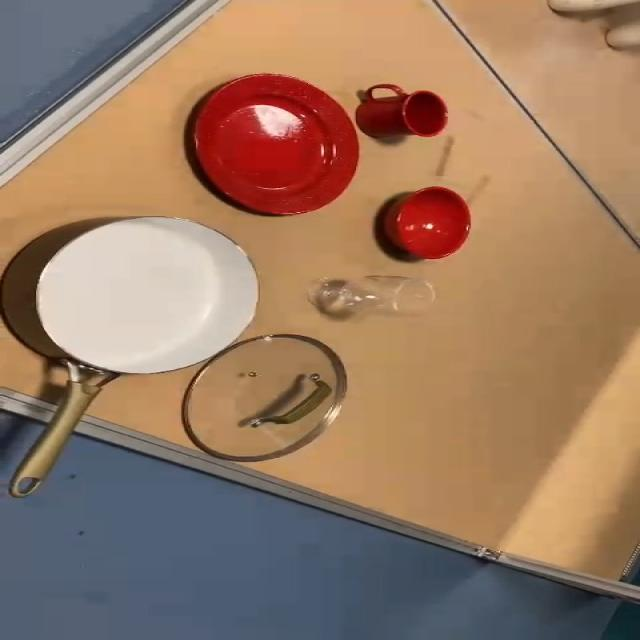Bowl: (380, 184, 477, 269)
Glass: (307, 274, 440, 324)
Plate: (192, 70, 363, 226)
cup: (356, 83, 452, 140)
pot: (10, 216, 253, 502)
